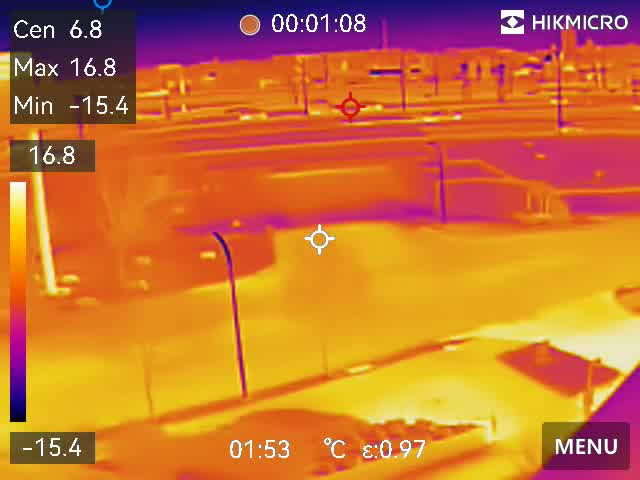vehicle: (235, 109, 271, 126), (353, 99, 386, 114)
